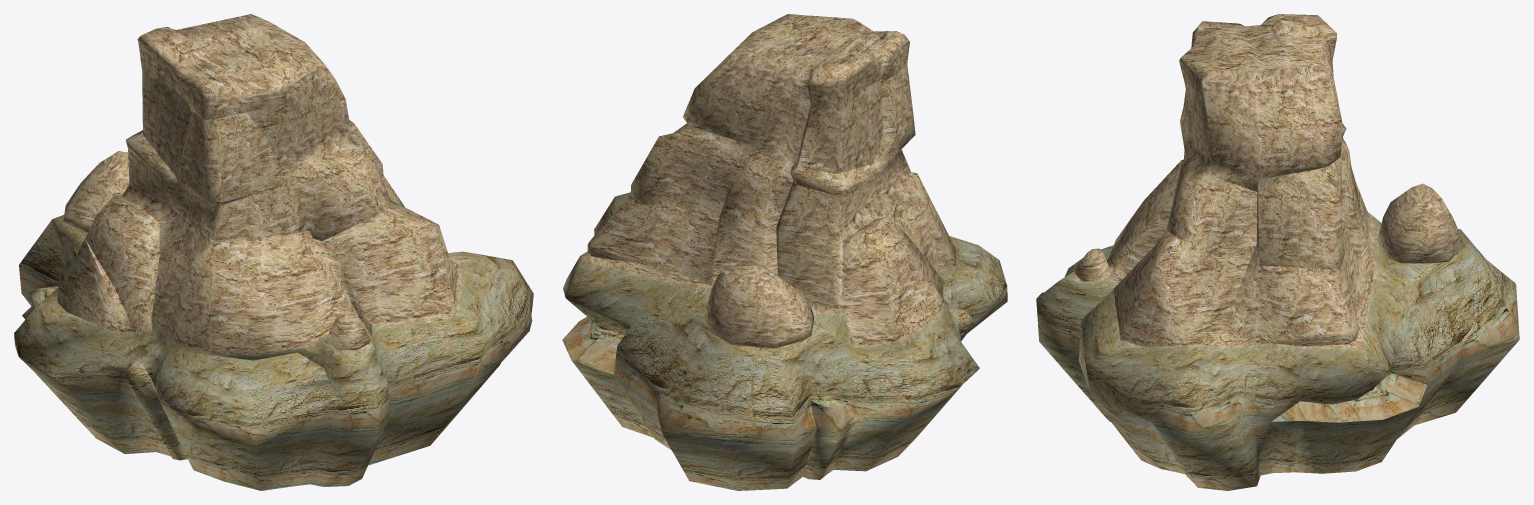
The model's file is dsrt_endr_column_l0.fbx.
3 views of the same model, side by side, from view 1: azimuth 30°, elevation 25°; view 2: azimuth 150°, elevation 25°; view 3: azimuth 270°, elevation 25° (orthographic). The views are drawn at different scales.
Visible parts, largest first — view 1: mesh_node; view 2: mesh_node; view 3: mesh_node.
Part boxes in pixels (left/top/right/bottom): mesh_node: left=14, top=14, right=533, bottom=490; mesh_node: left=562, top=14, right=1007, bottom=490; mesh_node: left=1036, top=14, right=1519, bottom=490.
Size of the model in its own units: 27.83 by 23.26 by 28.24.
2 materials, 2 textured.
